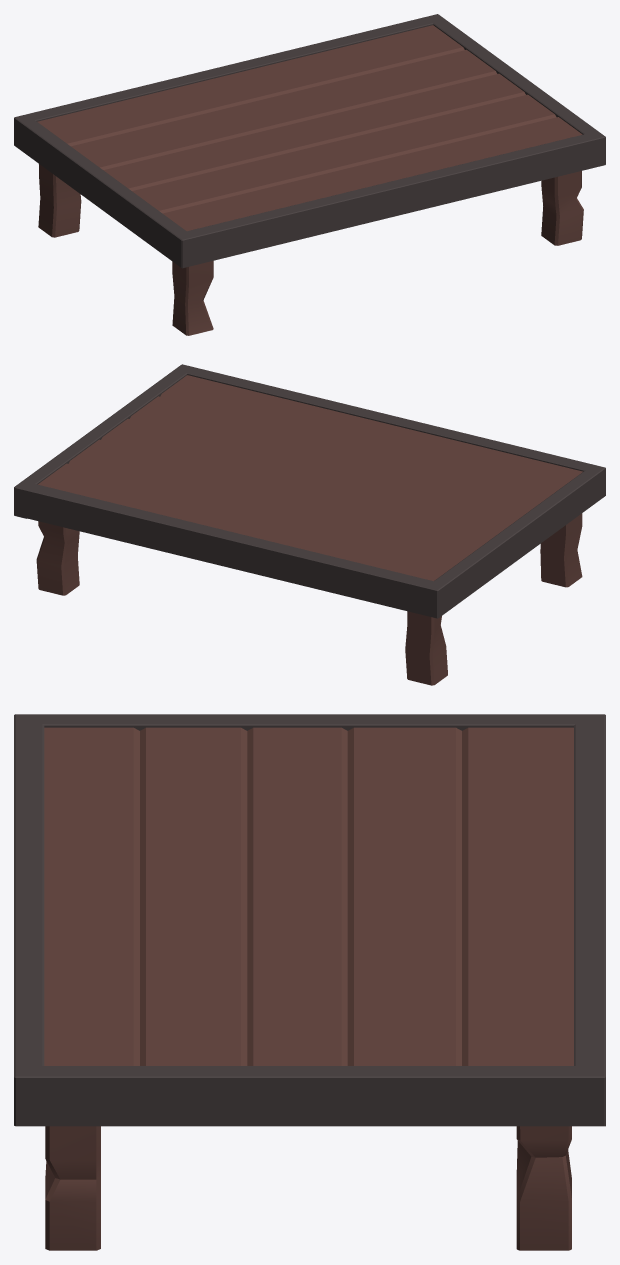
The model's file is Table.fbx.
The picture shows the model from 3 angles, top to bottom: view 1: azimuth 30°, elevation 25°; view 2: azimuth 150°, elevation 25°; view 3: azimuth 270°, elevation 25°; orthographic projection. The views are drawn at different scales.
Parts seen in each view (by area): view 1: Table; view 2: Table; view 3: Table.
Part boxes in pixels (x1,y1,x2,y2): Table: (14,14,605,335); Table: (14,364,605,685); Table: (14,714,605,1250).
Size of the model in its own units: 0.0151 by 0.00361 by 0.0104.
